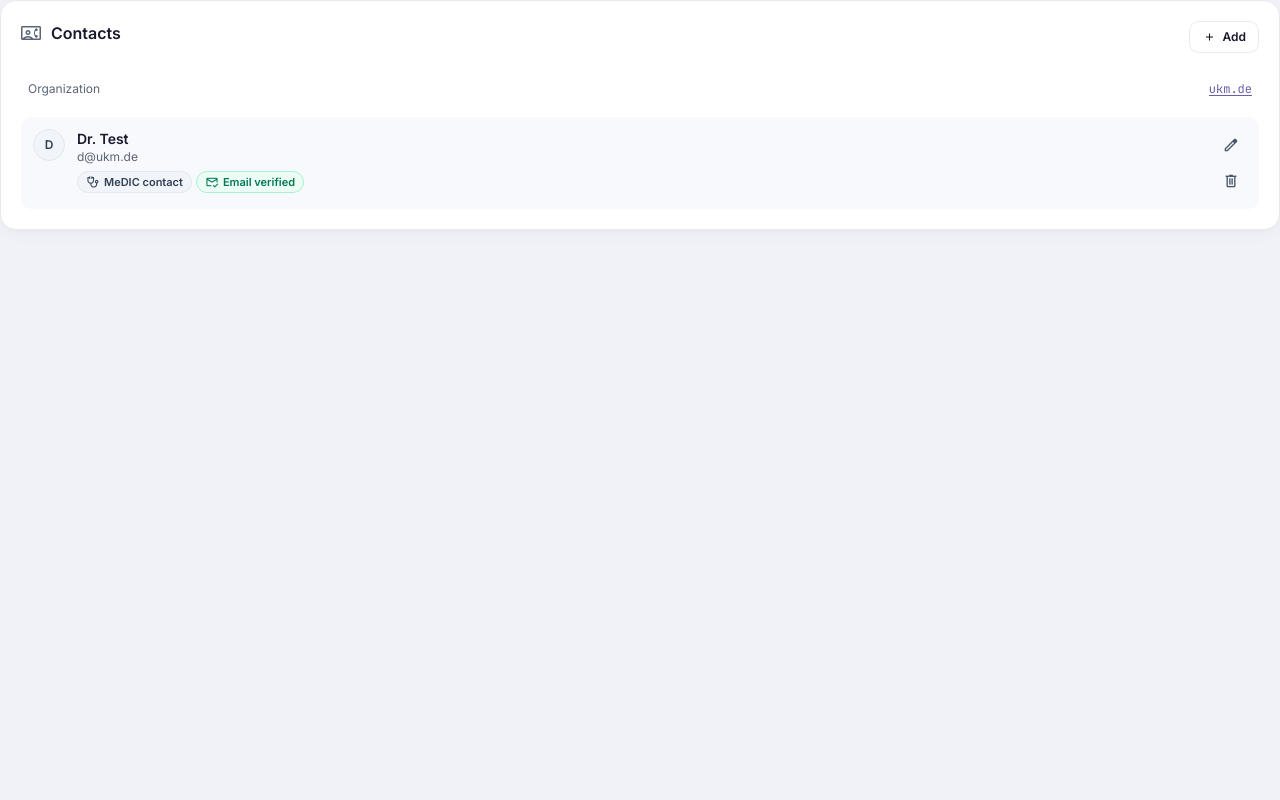
Test case: ContactsCard deletion › warns when the last contact would be deleted
Click the button named "delete contact" at (1231, 181), box top-left (1215, 165), bottom-right (1247, 197)
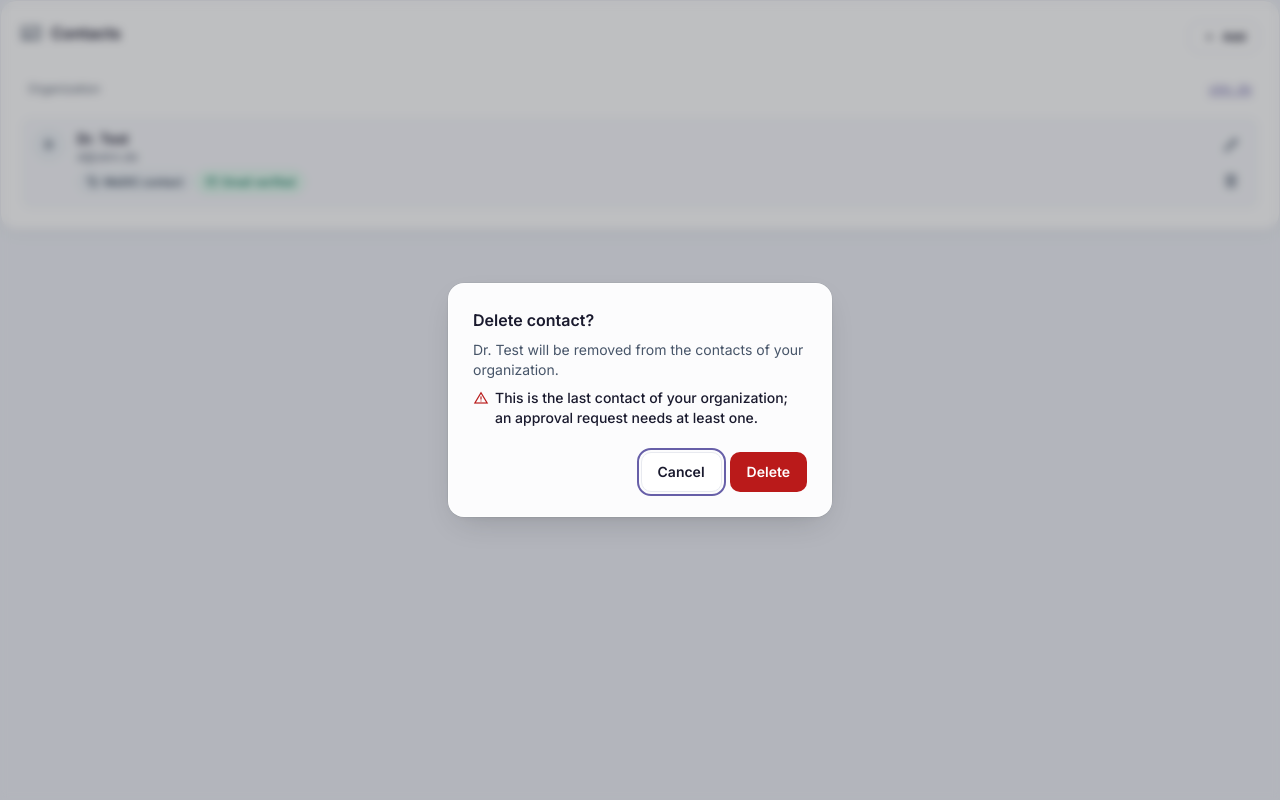
Expected: the text "This is the last contact of your organization" is shown, top-left (495, 389), bottom-right (788, 426)
